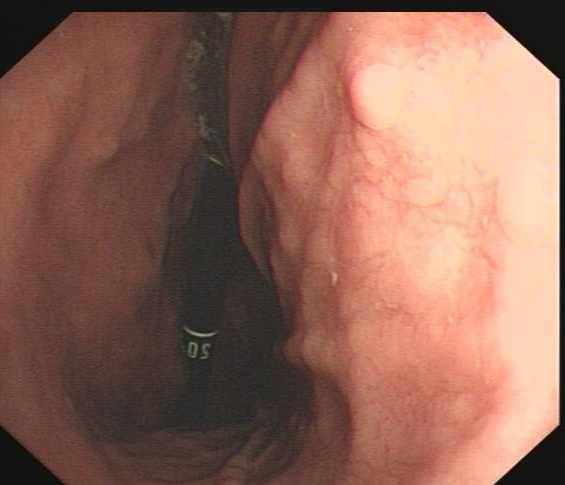Polyp: (344, 58, 420, 138)
